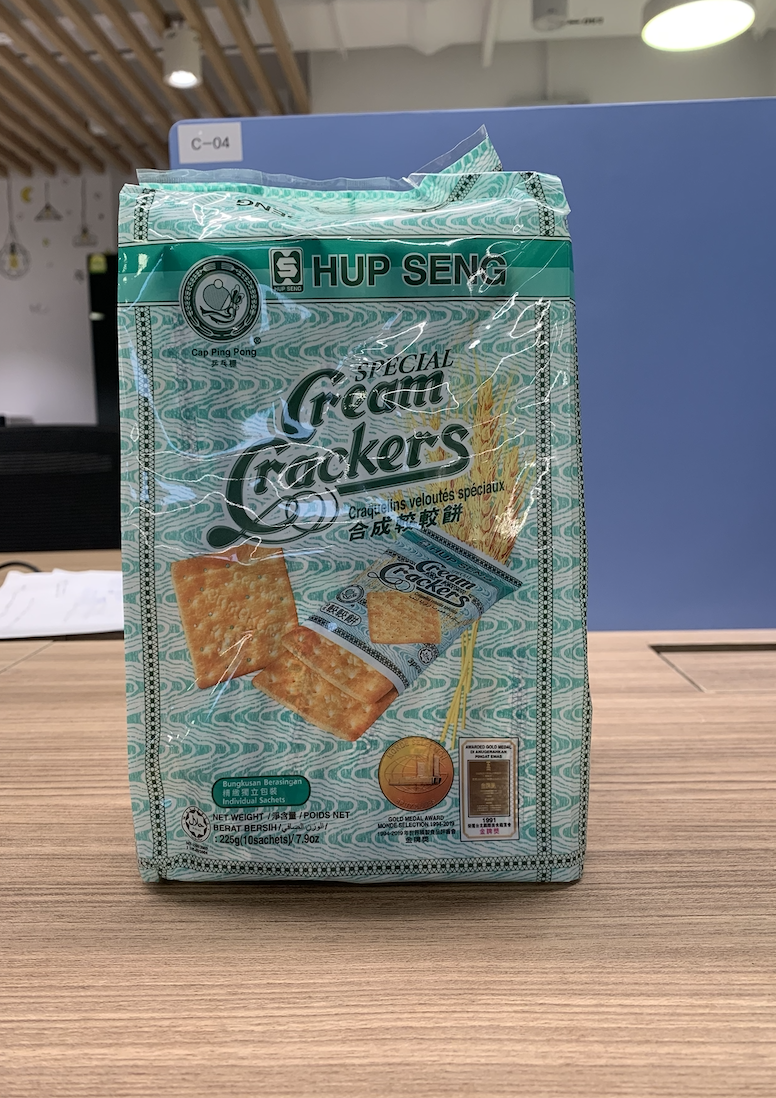crackers_150g: (132, 193, 580, 868)
